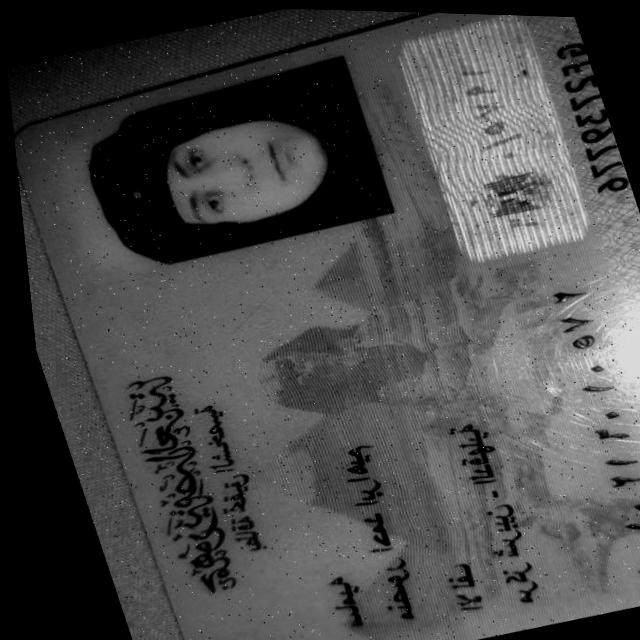id_card: (14, 13, 640, 640)
